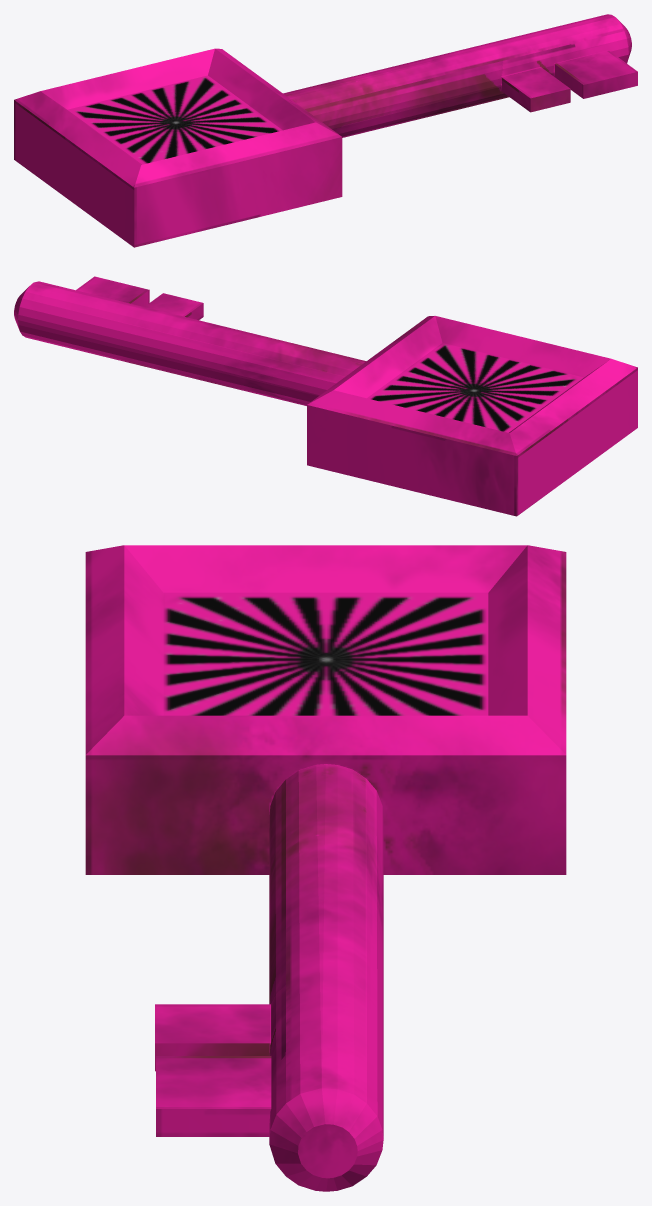
The model's file is key2.obj.
The picture shows the model from 3 angles, top to bottom: view 1: azimuth 30°, elevation 25°; view 2: azimuth 150°, elevation 25°; view 3: azimuth 270°, elevation 25°; orthographic projection. The views are drawn at different scales.
Parts seen in each view (by area): view 1: Cylinder.002; view 2: Cylinder.002; view 3: Cylinder.002.
Part boxes in pixels (x1,y1,x2,y2): Cylinder.002: [14, 14, 637, 247]; Cylinder.002: [14, 276, 637, 516]; Cylinder.002: [85, 545, 566, 1191].
Bounding box in the file's own units: 5.29 × 0.6568 × 2.
